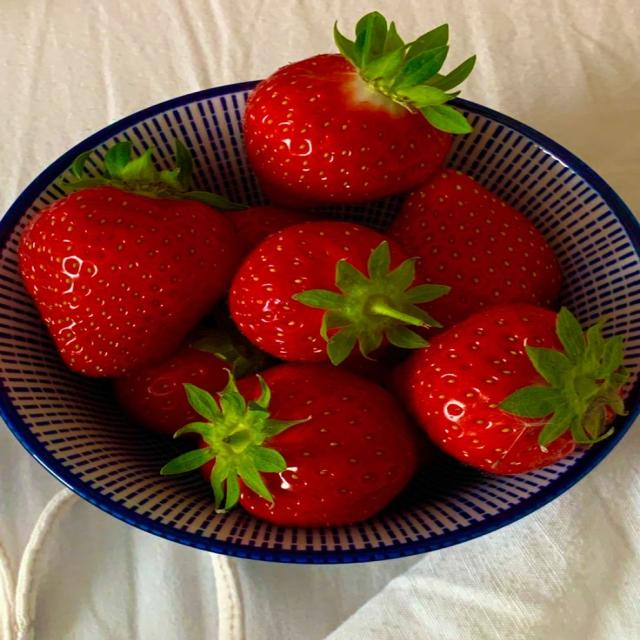strawberry: (20, 142, 239, 376), (245, 12, 474, 206), (162, 364, 416, 526), (395, 304, 627, 474), (229, 222, 447, 364), (388, 169, 560, 324), (114, 329, 268, 435), (228, 205, 320, 255)
